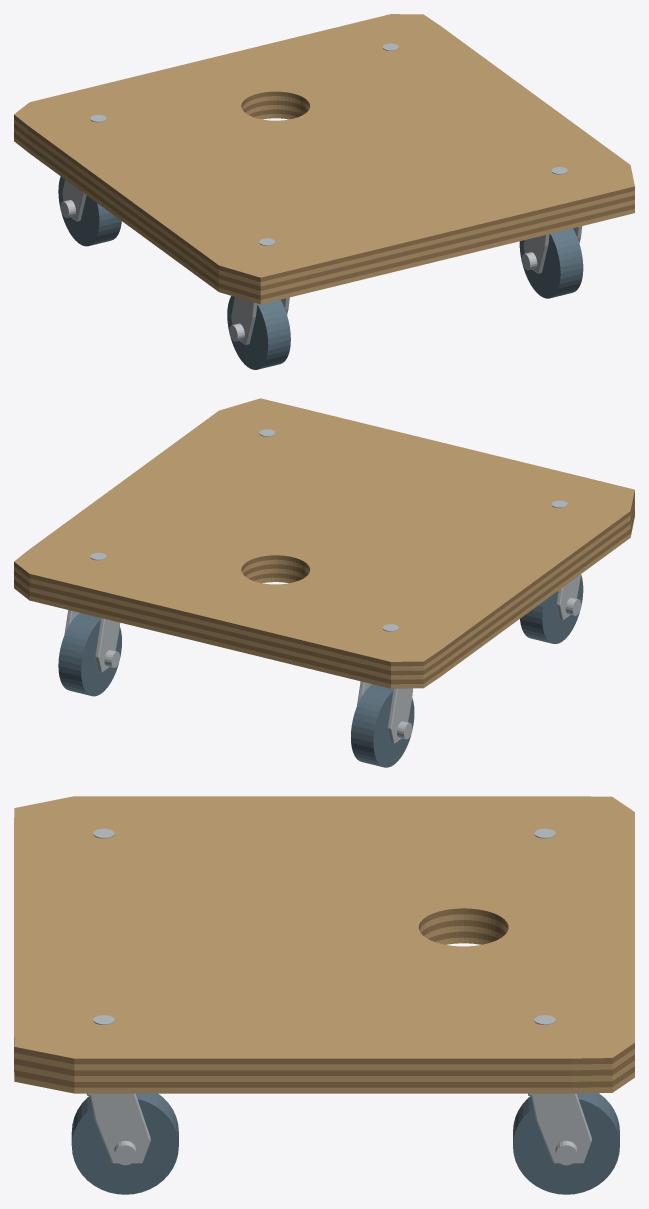
Rendered from full.glb.
The picture shows the model from 3 angles, top to bottom: view 1: azimuth 30°, elevation 25°; view 2: azimuth 150°, elevation 25°; view 3: azimuth 270°, elevation 25°; orthographic projection. The views are drawn at different scales.
Parts seen in each view (by area): view 1: Plywood platform with through handle, Single caster wheel 0, Single caster wheel 1, Single caster wheel 2, Fork cheek (0, -1), Fork cheek (1, -1), Fork cheek (2, -1); view 2: Plywood platform with through handle, Single caster wheel 2, Single caster wheel 3, Single caster wheel 0, Fork cheek (2, -1), Fork cheek (3, -1), Fork cheek (0, -1); view 3: Plywood platform with through handle, Single caster wheel 1, Single caster wheel 3, Fork cheek (1, 1), Fork cheek (3, 1).
Boxes of the visible parts, x1,y1,x2,y2 form: Plywood platform with through handle: (14,14,634,304); Single caster wheel 0: (227,296,290,369); Single caster wheel 1: (519,228,583,298); Single caster wheel 2: (58,176,121,246); Fork cheek (0, -1): (231,297,257,344); Fork cheek (1, -1): (523,234,549,273); Fork cheek (2, -1): (62,179,86,221); Plywood platform with through handle: (14,398,634,688); Single caster wheel 2: (351,684,414,767); Single caster wheel 3: (58,613,121,696); Single caster wheel 0: (520,574,583,643); Fork cheek (2, -1): (387,688,412,743); Fork cheek (3, -1): (95,618,120,672); Fork cheek (0, -1): (556,574,580,620); Plywood platform with through handle: (14,796,634,1093); Single caster wheel 1: (71,1093,178,1194); Single caster wheel 3: (513,1093,619,1194); Fork cheek (1, 1): (90,1093,150,1163); Fork cheek (3, 1): (531,1093,591,1163).
Bounding box in the file's own units: 0.29 × 0.0865 × 0.29.
